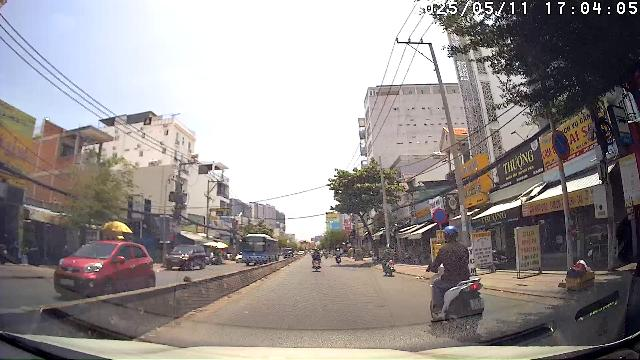131a-cam-do-xe: (552, 130, 570, 160), (432, 208, 446, 224)
